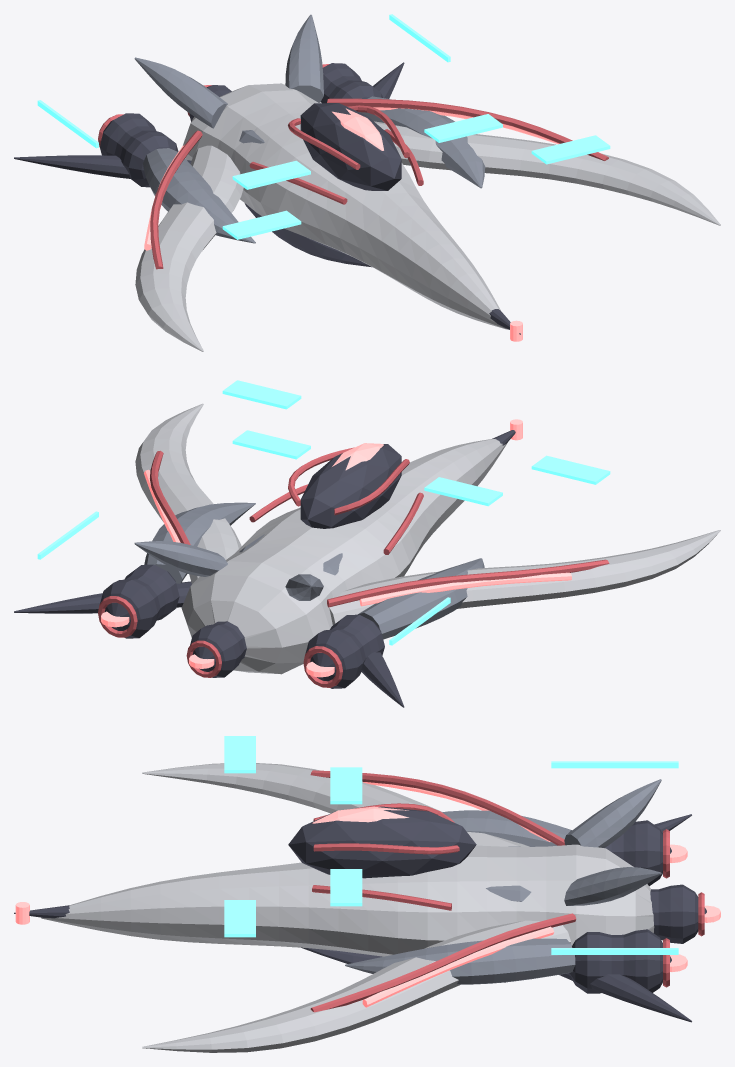
Rendered from SL_RAPTOR_HQ.glb.
3 views of the same model, one above another, from view 1: azimuth 30°, elevation 25°; view 2: azimuth 150°, elevation 25°; view 3: azimuth 270°, elevation 25° (orthographic). The views are drawn at different scales.
Parts seen in each view (by area): view 1: armor, dark, plate, V59 trim baked, accent, energy; view 2: armor, dark, plate, accent, V59 trim baked, energy; view 3: armor, dark, plate, accent, V59 trim baked, energy.
Boxes of the visible parts, left/top/right/bottom form: armor: left=135, top=83, right=720, bottom=351; dark: left=14, top=62, right=520, bottom=334; plate: left=134, top=14, right=485, bottom=243; V59 trim baked: left=37, top=14, right=610, bottom=239; accent: left=98, top=64, right=608, bottom=269; energy: left=144, top=107, right=559, bottom=341; armor: left=135, top=403, right=720, bottom=674; dark: left=14, top=430, right=515, bottom=707; plate: left=134, top=502, right=484, bottom=639; accent: left=98, top=447, right=609, bottom=687; V59 trim baked: left=37, top=380, right=610, bottom=645; energy: left=101, top=419, right=571, bottom=677; armor: left=41, top=763, right=654, bottom=1052; dark: left=14, top=806, right=706, bottom=1022; plate: left=345, top=779, right=661, bottom=984; accent: left=310, top=770, right=704, bottom=1012; V59 trim baked: left=224, top=736, right=678, bottom=954; energy: left=15, top=782, right=720, bottom=1007.
Size of the model in its own units: 6.1 by 1.66 by 6.45.
